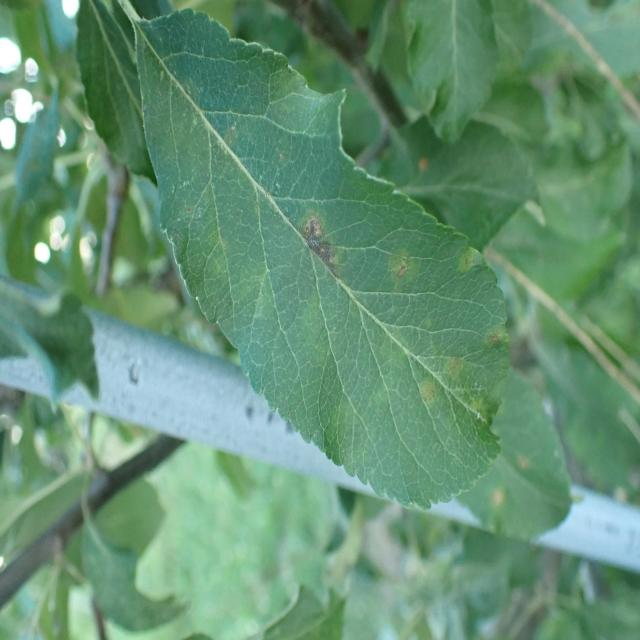scab: (148, 48, 556, 533)
